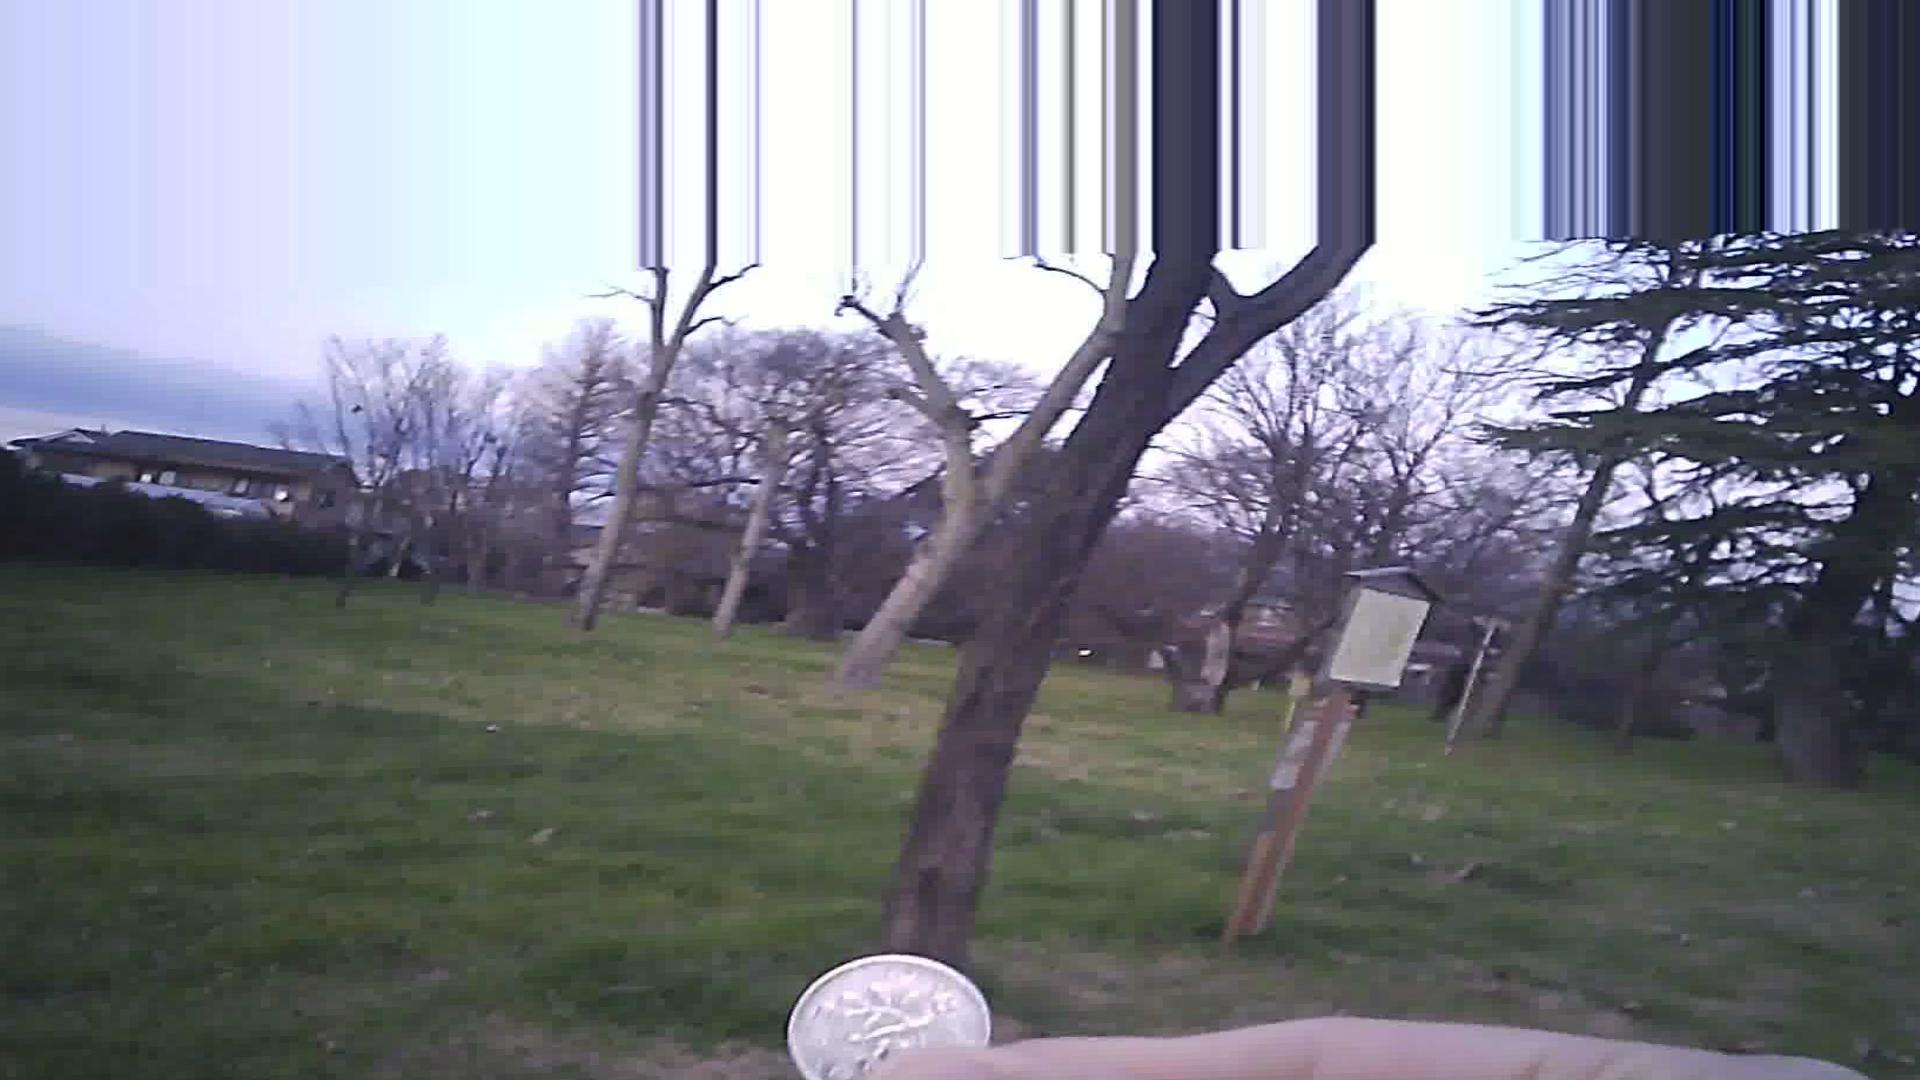1 Yen: (785, 940, 1015, 1062)
